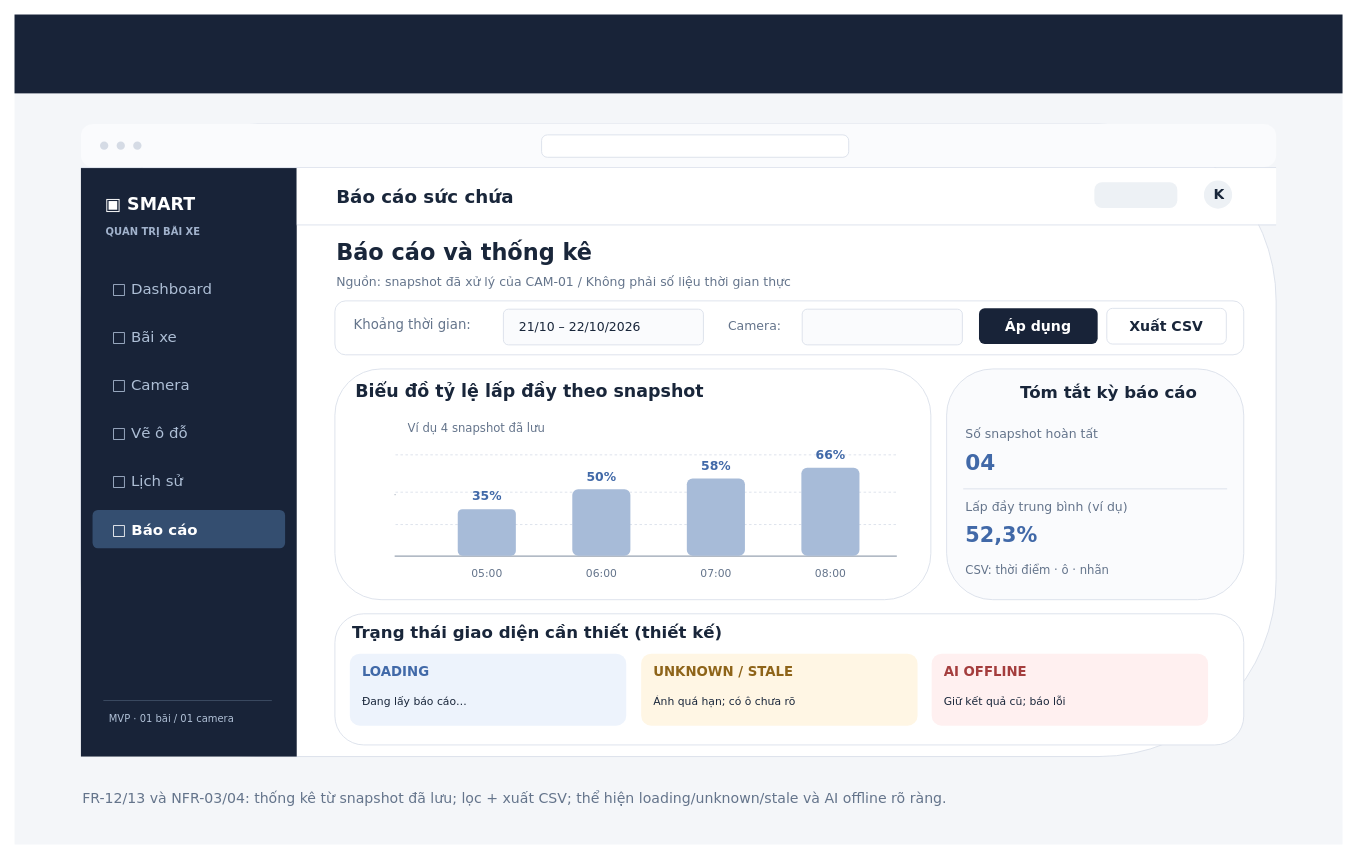
Image size: 1356x858. Some labels were removed from this diagram. The shapes that lost their labels are listed below. From the top down, each one's centre as x and y in pixels, then its label:
At point (695, 145): "ai-smart-parking.local / reports".
At point (1135, 195): "OPERATOR".
At point (881, 326): "CAM-01 ▾".
